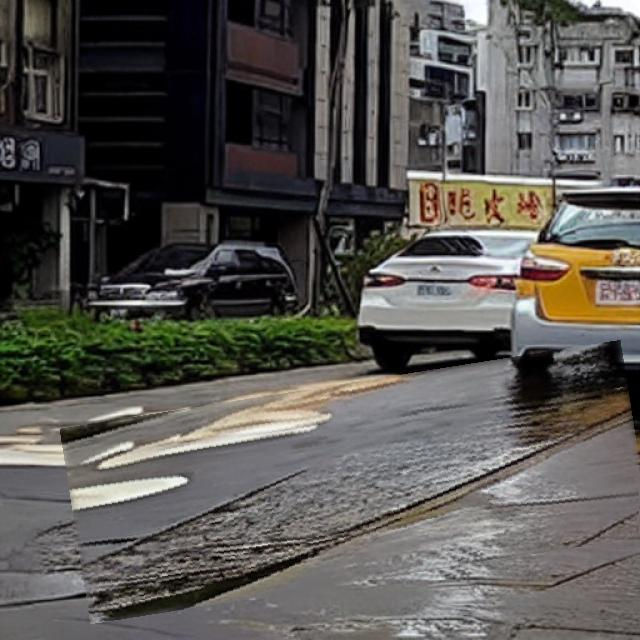puddle: (67, 362, 640, 603)
